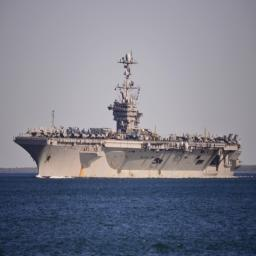Portanaves: (12, 49, 245, 181)
